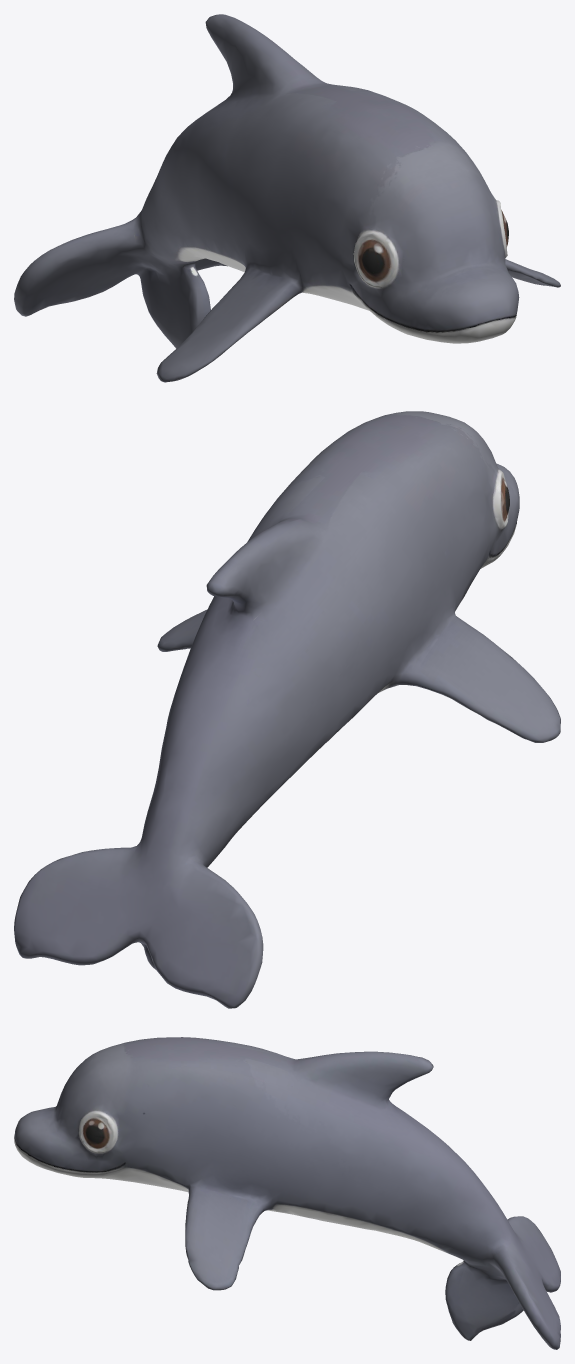
File: Dolphin_Delight_1111184945_texture.fbx
3 renders of one model, top to bottom at view 1: azimuth 30°, elevation 25°; view 2: azimuth 150°, elevation 25°; view 3: azimuth 270°, elevation 25°, orthographic. The views are drawn at different scales.
Parts seen in each view (by area): view 1: Mesh1.0; view 2: Mesh1.0; view 3: Mesh1.0.
Part boxes in pixels (x1=…): Mesh1.0: x1=14, y1=14, x2=560, y2=382; Mesh1.0: x1=14, y1=411, x2=560, y2=1008; Mesh1.0: x1=14, y1=1037, x2=560, y2=1349.
Bounding box in the file's own units: 119 × 113 × 191.
Materials: 1 (1 with a texture image).
